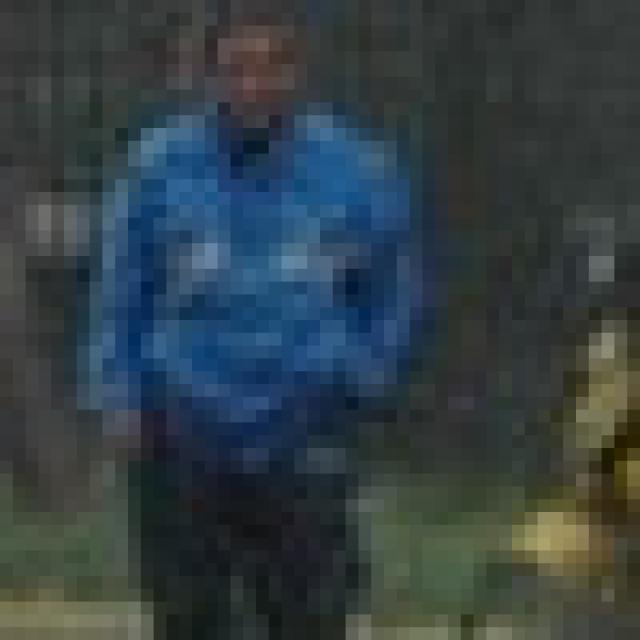no_fire: (75, 35, 640, 617)
